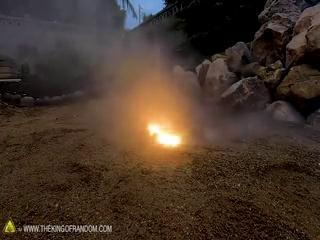Fire: (147, 117, 184, 151)
